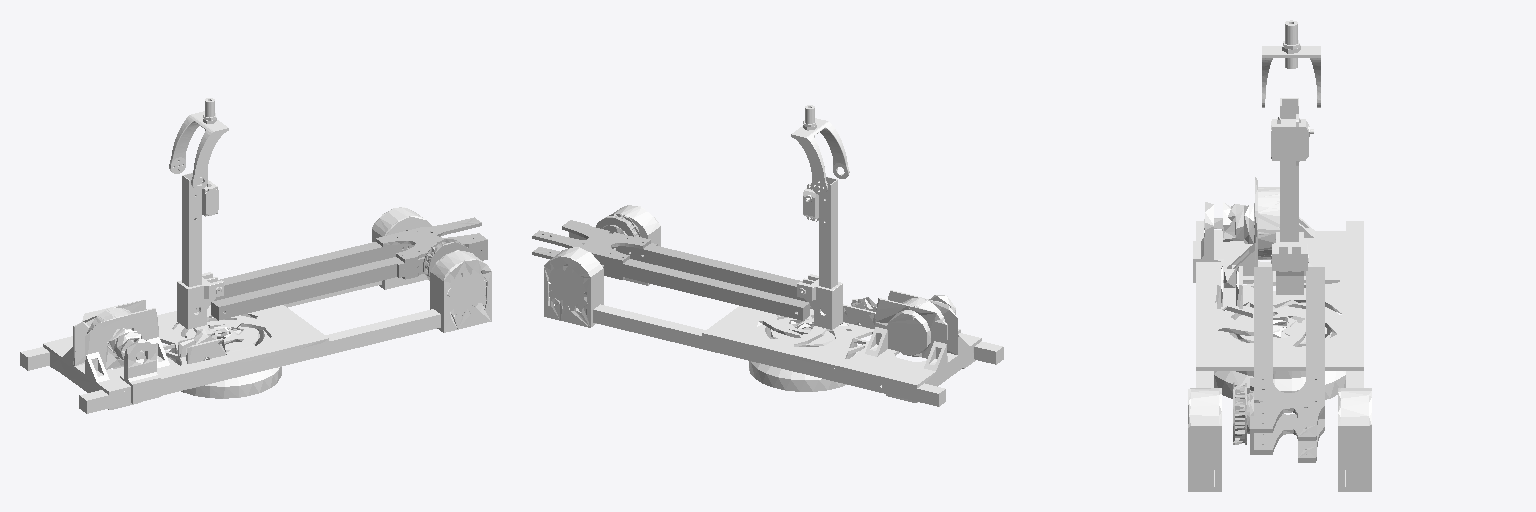
URDF robot description (arm):
<?xml version="1.0" encoding="utf-8"?>
<!-- This URDF was automatically created by SolidWorks to URDF Exporter! Originally created by Stephen Brawner (brawner@gmail.com) 
     Commit Version: 1.6.0-4-g7f85cfe  Build Version: 1.6.7995.38578
     For more information, please see http://wiki.ros.org/sw_urdf_exporter -->
<robot
  name="arm">

  <link name="world"/>

  <joint name="world_joint" type="fixed">
    <parent link="world"/>
    <child link="base_link"/>
  </joint>

  <link
    name="base_link">
    <inertial>
      <origin
        xyz="-0.016869872878182 -7.25086812364342E-05 -0.0191399749243649"
        rpy="0 0 0" />
      <mass
        value="1.51115460246734" />
      <inertia
        ixx="0.00512915549939724"
        ixy="1.34002461176202E-05"
        ixz="-1.5805511307283E-12"
        iyy="0.00871416793501376"
        iyz="1.25382019510717E-11"
        izz="0.0138379553843523" />
    </inertial>
    <visual>
      <origin
        xyz="0 0 0"
        rpy="0 0 0" />
      <geometry>
        <mesh
          filename="package://arm/model/base_link.STL" />
      </geometry>
      <material
        name="">
        <color
          rgba="0.250980392156863 0.250980392156863 0.250980392156863 1" />
      </material>
    </visual>
    <collision>
      <origin
        xyz="0 0 0"
        rpy="0 0 0" />
      <geometry>
        <mesh
          filename="package://arm/model/base_link.STL" />
      </geometry>
    </collision>
  </link>
  <link
    name="link1">
    <inertial>
      <origin
        xyz="0.0350830336741171 -0.00415934285815935 0.00218726077552271"
        rpy="0 0 0" />
      <mass
        value="2.52839234415653" />
      <inertia
        ixx="0.0034868807361204"
        ixy="-9.28341215280675E-06"
        ixz="-1.51421027245075E-06"
        iyy="0.0206826977793449"
        iyz="-2.49745487927417E-06"
        izz="0.0227755526534273" />
    </inertial>
    <visual>
      <origin
        xyz="0 0 0"
        rpy="0 0 0" />
      <geometry>
        <mesh
          filename="package://arm/model/link1.STL" />
      </geometry>
      <material
        name="">
        <color
          rgba="1 1 1 1" />
      </material>
    </visual>
    <collision>
      <origin
        xyz="0 0 0"
        rpy="0 0 0" />
      <geometry>
        <mesh
          filename="package://arm/model/link1.STL" />
      </geometry>
    </collision>
  </link>
  <joint
    name="joint1"
    type="continuous">
    <origin
      xyz="-3.2465E-05 1.0134E-05 0.066"
      rpy="0 0 0" />
    <parent
      link="base_link" />
    <child
      link="link1" />
    <axis
      xyz="0 0 1" />
  </joint>
  <link
    name="link2">
    <inertial>
      <origin
        xyz="0.0857608058219387 -1.62146361615267E-09 -0.0348304697329126"
        rpy="0 0 0" />
      <mass
        value="0.549716905790998" />
      <inertia
        ixx="0.000148718700889303"
        ixy="-1.83049156138468E-11"
        ixz="-2.7823136677564E-06"
        iyy="0.00299499105373979"
        iyz="-2.28181910070197E-11"
        izz="0.00290488995742491" />
    </inertial>
    <visual>
      <origin
        xyz="0 0 0"
        rpy="0 0 0" />
      <geometry>
        <mesh
          filename="package://arm/model/link2.STL" />
      </geometry>
      <material
        name="">
        <color
          rgba="0.847058823529412 0.847058823529412 0.847058823529412 1" />
      </material>
    </visual>
    <collision>
      <origin
        xyz="0 0 0"
        rpy="0 0 0" />
      <geometry>
        <mesh
          filename="package://arm/model/link2.STL" />
      </geometry>
    </collision>
  </link>
  <joint
    name="joint2"
    type="revolute">
    <origin
      xyz="0.3275 -0.0335 0.0485"
      rpy="1.5708 3.1416 0" />
    <parent
      link="link1" />
    <child
      link="link2" />
    <axis
      xyz="0 0 -1" />
    <limit
      lower="-3.1416"
      upper="3.1416"
      effort="0"
      velocity="0" />
  </joint>
  <link
    name="link3">
    <inertial>
      <origin
        xyz="0.0651512472133345 -0.00931897166971898 -0.000171100160753751"
        rpy="0 0 0" />
      <mass
        value="0.122270691158031" />
      <inertia
        ixx="2.91569573749936E-05"
        ixy="5.76405724844773E-06"
        ixz="-1.69858636443256E-07"
        iyy="0.000133645083707022"
        iyz="1.33491397958492E-07"
        izz="0.000136289156439715" />
    </inertial>
    <visual>
      <origin
        xyz="0 0 0"
        rpy="0 0 0" />
      <geometry>
        <mesh
          filename="package://arm/model/link3.STL" />
      </geometry>
      <material
        name="">
        <color
          rgba="1 1 1 1" />
      </material>
    </visual>
    <collision>
      <origin
        xyz="0 0 0"
        rpy="0 0 0" />
      <geometry>
        <mesh
          filename="package://arm/model/link3.STL" />
      </geometry>
    </collision>
  </link>
  <joint
    name="joint3"
    type="revolute">
    <origin
      xyz="0.3695 0 -0.044"
      rpy="0 0 -1.5708" />
    <parent
      link="link2" />
    <child
      link="link3" />
    <axis
      xyz="0 0 1" />
    <limit
      lower="0"
      upper="1.5708"
      effort="0"
      velocity="0" />
  </joint>
  <link
    name="link4">
    <inertial>
      <origin
        xyz="-0.0180143425602793 -0.0494695111798099 0.0239052844480039"
        rpy="0 0 0" />
      <mass
        value="0.0478316913769084" />
      <inertia
        ixx="4.97476467538955E-05"
        ixy="-9.57855804930017E-06"
        ixz="2.49424727468678E-07"
        iyy="3.49339849733935E-05"
        iyz="7.34300502151481E-07"
        izz="2.91036780131539E-05" />
    </inertial>
    <visual>
      <origin
        xyz="0 0 0"
        rpy="0 0 0" />
      <geometry>
        <mesh
          filename="package://arm/model/link4.STL" />
      </geometry>
      <material
        name="">
        <color
          rgba="1 1 1 1" />
      </material>
    </visual>
    <collision>
      <origin
        xyz="0 0 0"
        rpy="0 0 0" />
      <geometry>
        <mesh
          filename="package://arm/model/link4.STL" />
      </geometry>
    </collision>
  </link>
  <joint
    name="joint4"
    type="revolute">
    <origin
      xyz="0.2 0.004 -0.026"
      rpy="0 0 1.5708" />
    <parent
      link="link3" />
    <child
      link="link4" />
    <axis
      xyz="0 0 -1" />
    <limit
      lower="-3.1416"
      upper="3.1416"
      effort="0"
      velocity="0" />
    </joint>

  <!-- ros2_control plugin for mujoco -->
  <ros2_control name="ArmSystem" type="system">

    <hardware>
      <plugin>mujoco_ros2_control/MujocoSystem</plugin>
    </hardware>

    <joint name="joint1">
      <command_interface name="position"/>
      <state_interface name="position"/>
      <state_interface name="velocity"/>
    </joint>

    <joint name="joint2">
      <command_interface name="position"/>
      <state_interface name="position"/>
      <state_interface name="velocity"/>
    </joint>

    <joint name="joint3">
      <command_interface name="position"/>
      <state_interface name="position"/>
      <state_interface name="velocity"/>
    </joint>

    <joint name="joint4">
      <command_interface name="position"/>
      <state_interface name="position"/>
      <state_interface name="velocity"/>
    </joint>

   </ros2_control>

  <mujoco>
    <actuator>

      <position joint="joint1" kp="100"/>
      <position joint="joint2" kp="100"/>
      <position joint="joint3" kp="100"/>
      <position joint="joint4" kp="100"/>

    </actuator>
  </mujoco>

</robot>

--- Facts derived from the render (not from the file) ---
Views: 3 orthographic renders of the robot side by side, from view 1: azimuth 30°, elevation 25°; view 2: azimuth 150°, elevation 25°; view 3: azimuth 270°, elevation 25°.
Robot: arm — 6 links, 5 joints (3 revolute, 1 continuous, 1 fixed); root link world; default pose: all joints at 0.
Links seen in each view (by area): view 1: link1, link2, link3, link4; view 2: link1, link2, link3, link4; view 3: link1, link2, link3, link4.
Boxes of the visible links, x1=… form: link1: x1=20, y1=207, x2=491, y2=413; link2: x1=211, y1=217, x2=487, y2=320; link3: x1=177, y1=173, x2=223, y2=328; link4: x1=169, y1=98, x2=228, y2=189; link1: x1=544, y1=205, x2=1003, y2=406; link2: x1=532, y1=213, x2=809, y2=320; link3: x1=797, y1=177, x2=842, y2=329; link4: x1=791, y1=105, x2=849, y2=194; link1: x1=1188, y1=177, x2=1371, y2=491; link2: x1=1233, y1=267, x2=1324, y2=462; link3: x1=1271, y1=98, x2=1313, y2=294; link4: x1=1262, y1=20, x2=1320, y2=107.
Size in the robot's own frame: 0.6825 by 0.196 by 0.4083 metres.
4 mesh visuals loaded from 5 distinct referenced files (4 binary STL); not drawn: 1 (reference not matched to a file when rendering).
